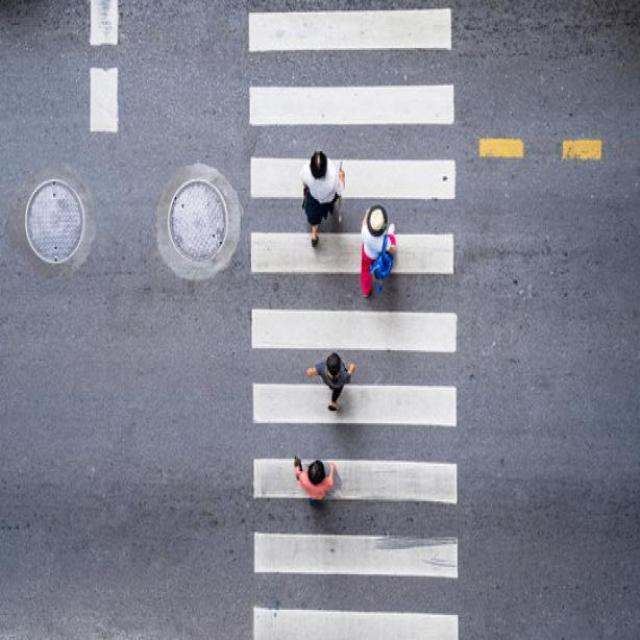pedestrian lane: (249, 11, 457, 640)
